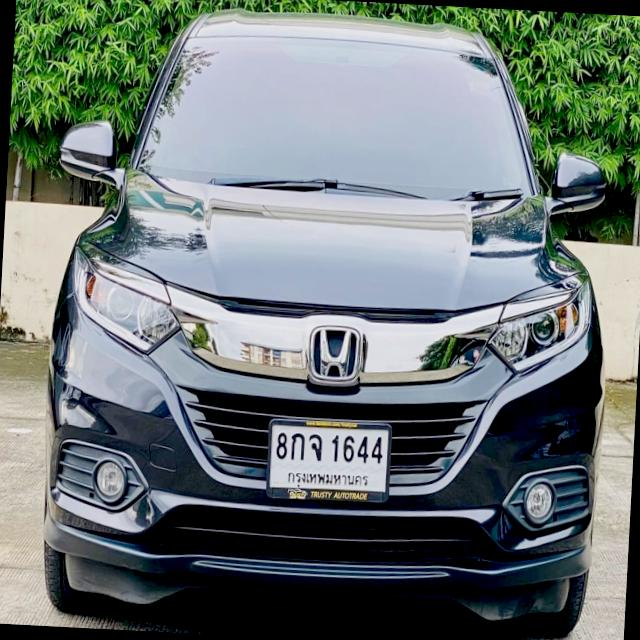license_plate: (265, 418, 394, 504)
